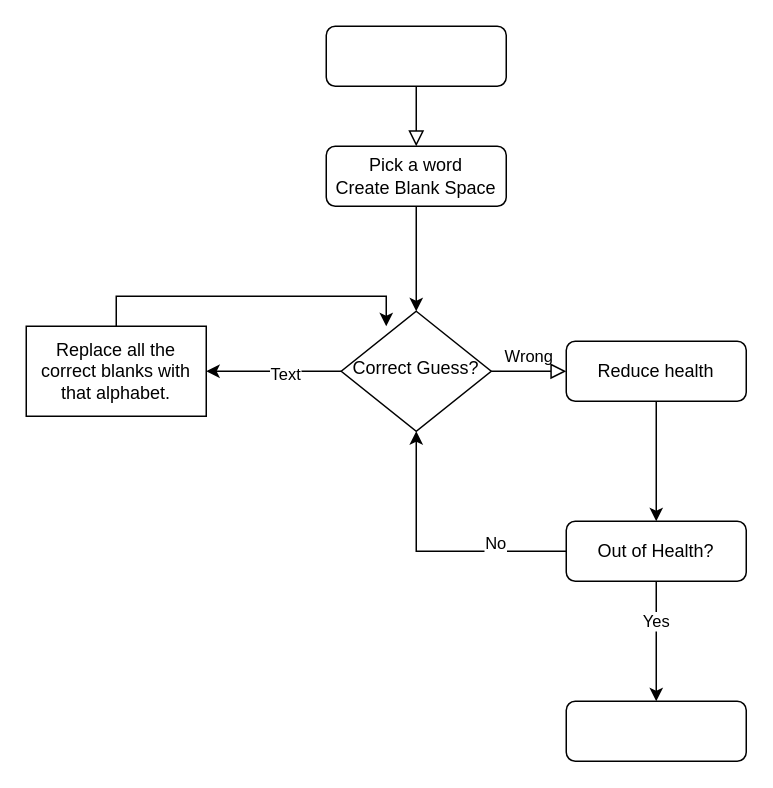
Some shapes in this 773 by 788 pixel diagram are drawn without their labels. Here are the shapes that lost their labels. From the top down, the centre of each, then its label:
At (415,55): "Start".
At (655,730): "Game Over!!!".
